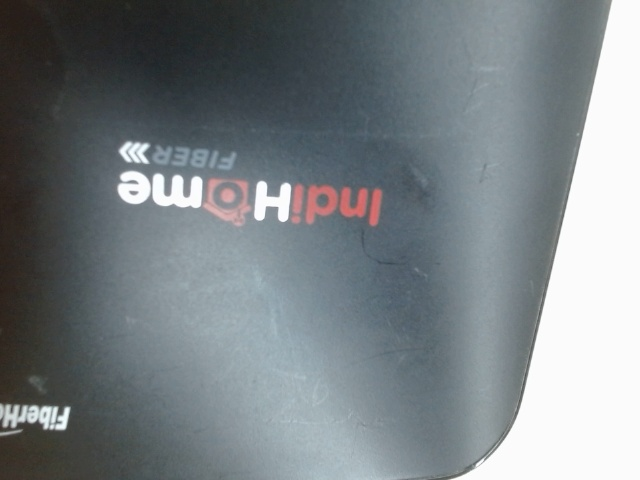AF_IndiHome: (101, 131, 388, 236)
